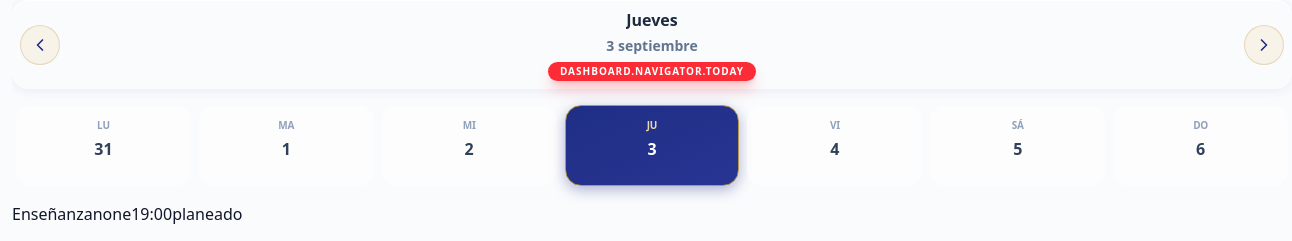
CultoNavigator › un prefetch vacío no pisa un día que el rango ya trajo
Click the button with test id "dashboard-nav-next" at x=1264, y=44, box [1244,24,1284,64]
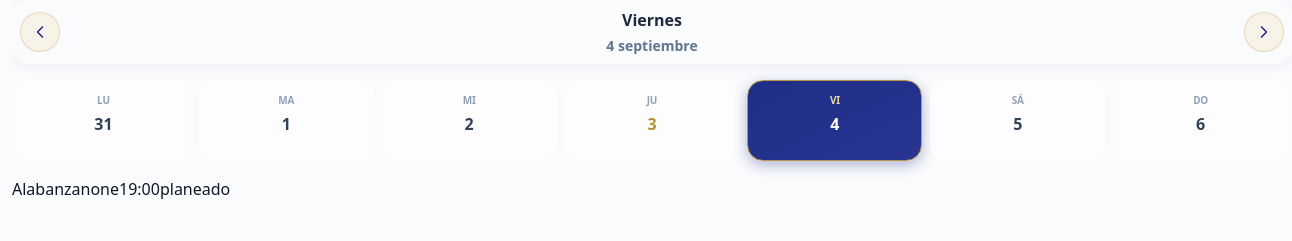
Check: the text with test id "culto-nombre" reads "Alabanza", box [12,178,80,200]
